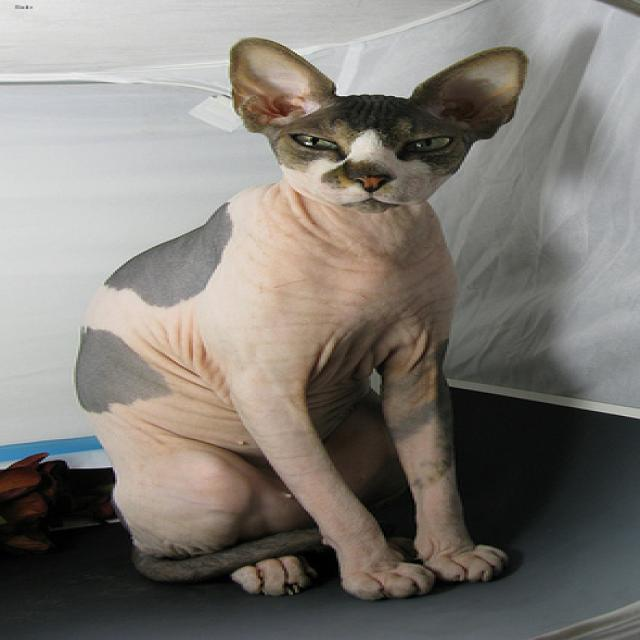Sphynx: (226, 37, 539, 216)
